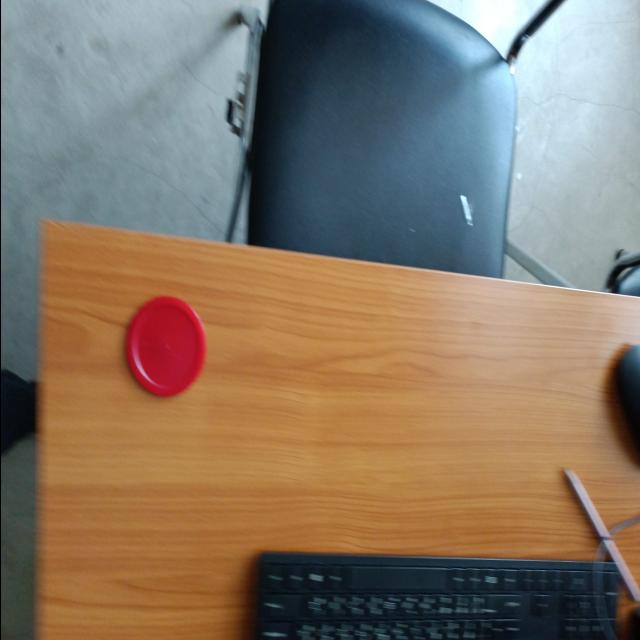chip: (123, 294, 207, 400)
